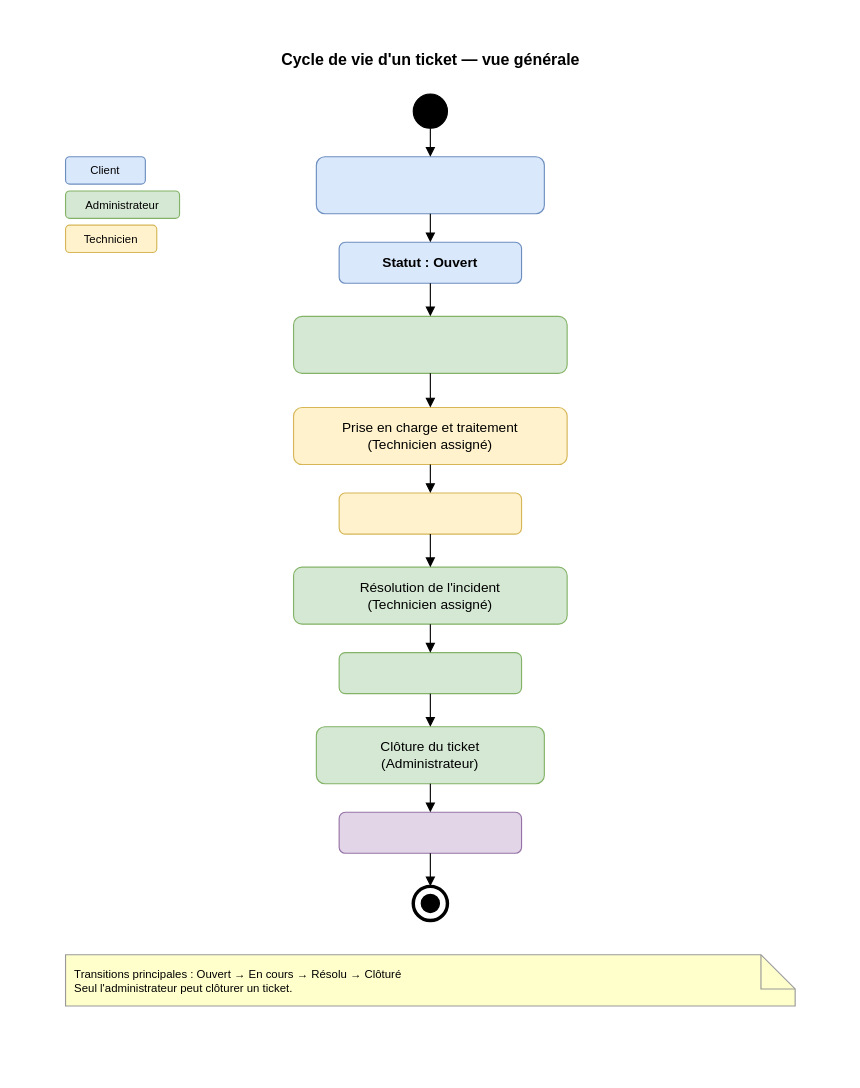
The diagram is 860 pixels wide and 1088 high, and some of its shapes have lost their labels. Each missing label, with the centre of its shape:
"Assignation à un technicien (Administrateur)" belongs at point (429, 344).
"Création du ticket (Client)" belongs at point (429, 185).
"Statut : Clôturé" belongs at point (430, 832).
"Statut : En cours" belongs at point (430, 513).
"Statut : Résolu" belongs at point (430, 673).
